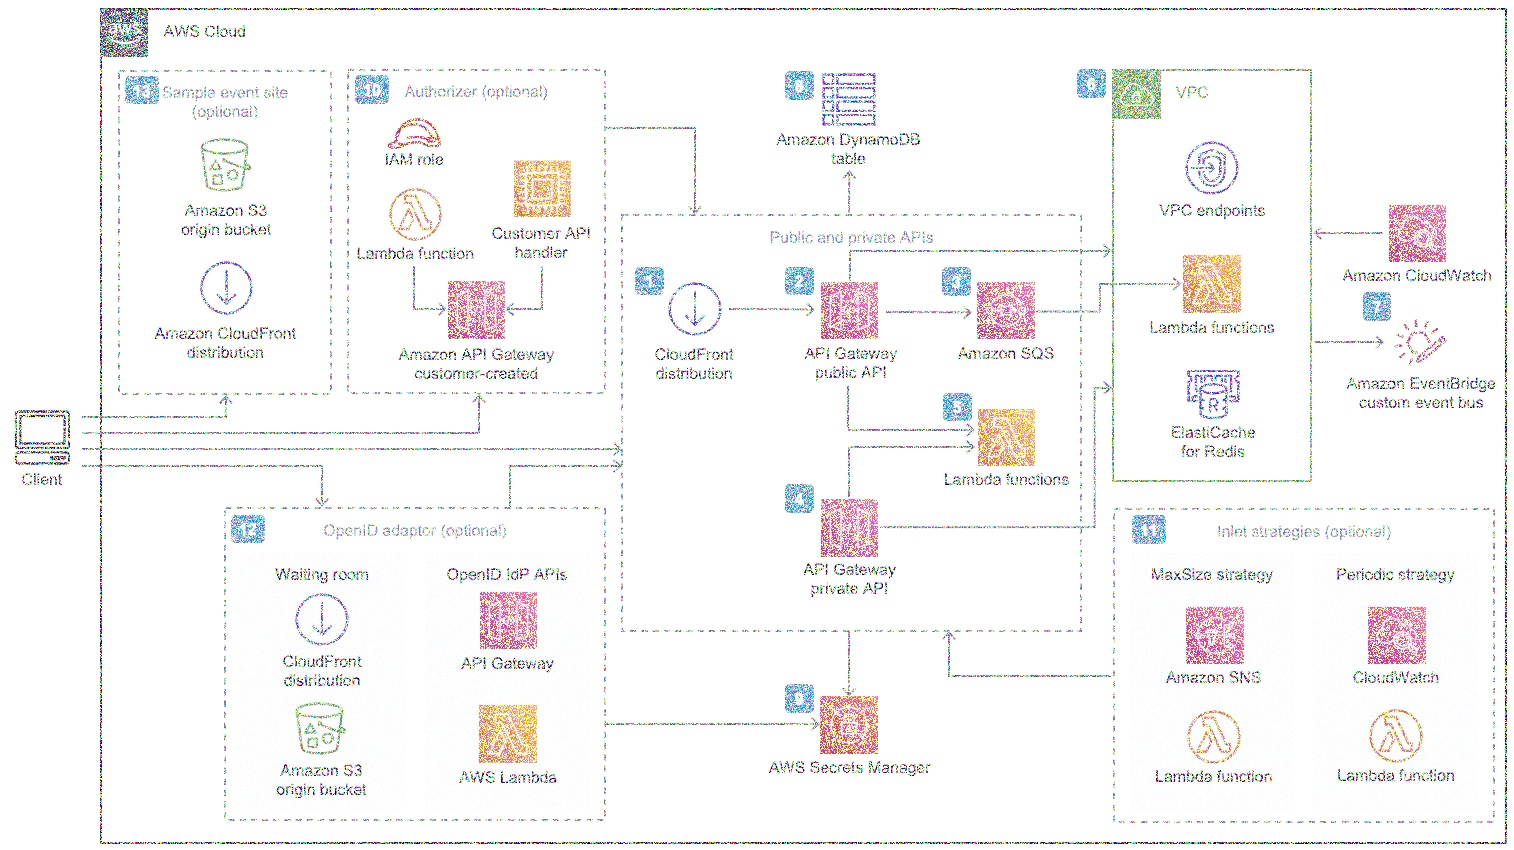API-Gateway: (817, 493, 884, 561), (817, 280, 884, 342), (443, 278, 509, 341), (477, 586, 542, 647)
Cloud Watch: (1363, 600, 1430, 666), (1384, 201, 1450, 265)
EC2: (514, 157, 574, 219)
EFS Mount Target: (1182, 132, 1244, 200)
ElastiCache: (1183, 362, 1246, 421)
IAM Role: (380, 108, 446, 151)
Lambda: (472, 700, 542, 767), (974, 403, 1040, 468), (1178, 252, 1245, 316), (383, 176, 445, 243), (1367, 706, 1429, 766), (1180, 707, 1246, 763)
S3: (292, 698, 352, 760), (197, 131, 255, 194)
SNS: (1182, 602, 1248, 667)
SQS: (973, 278, 1038, 342)
Secret Manager: (818, 692, 881, 757)
Table: (817, 66, 882, 130)
Web Clients: (10, 402, 77, 471)
aws: (97, 3, 152, 59)
